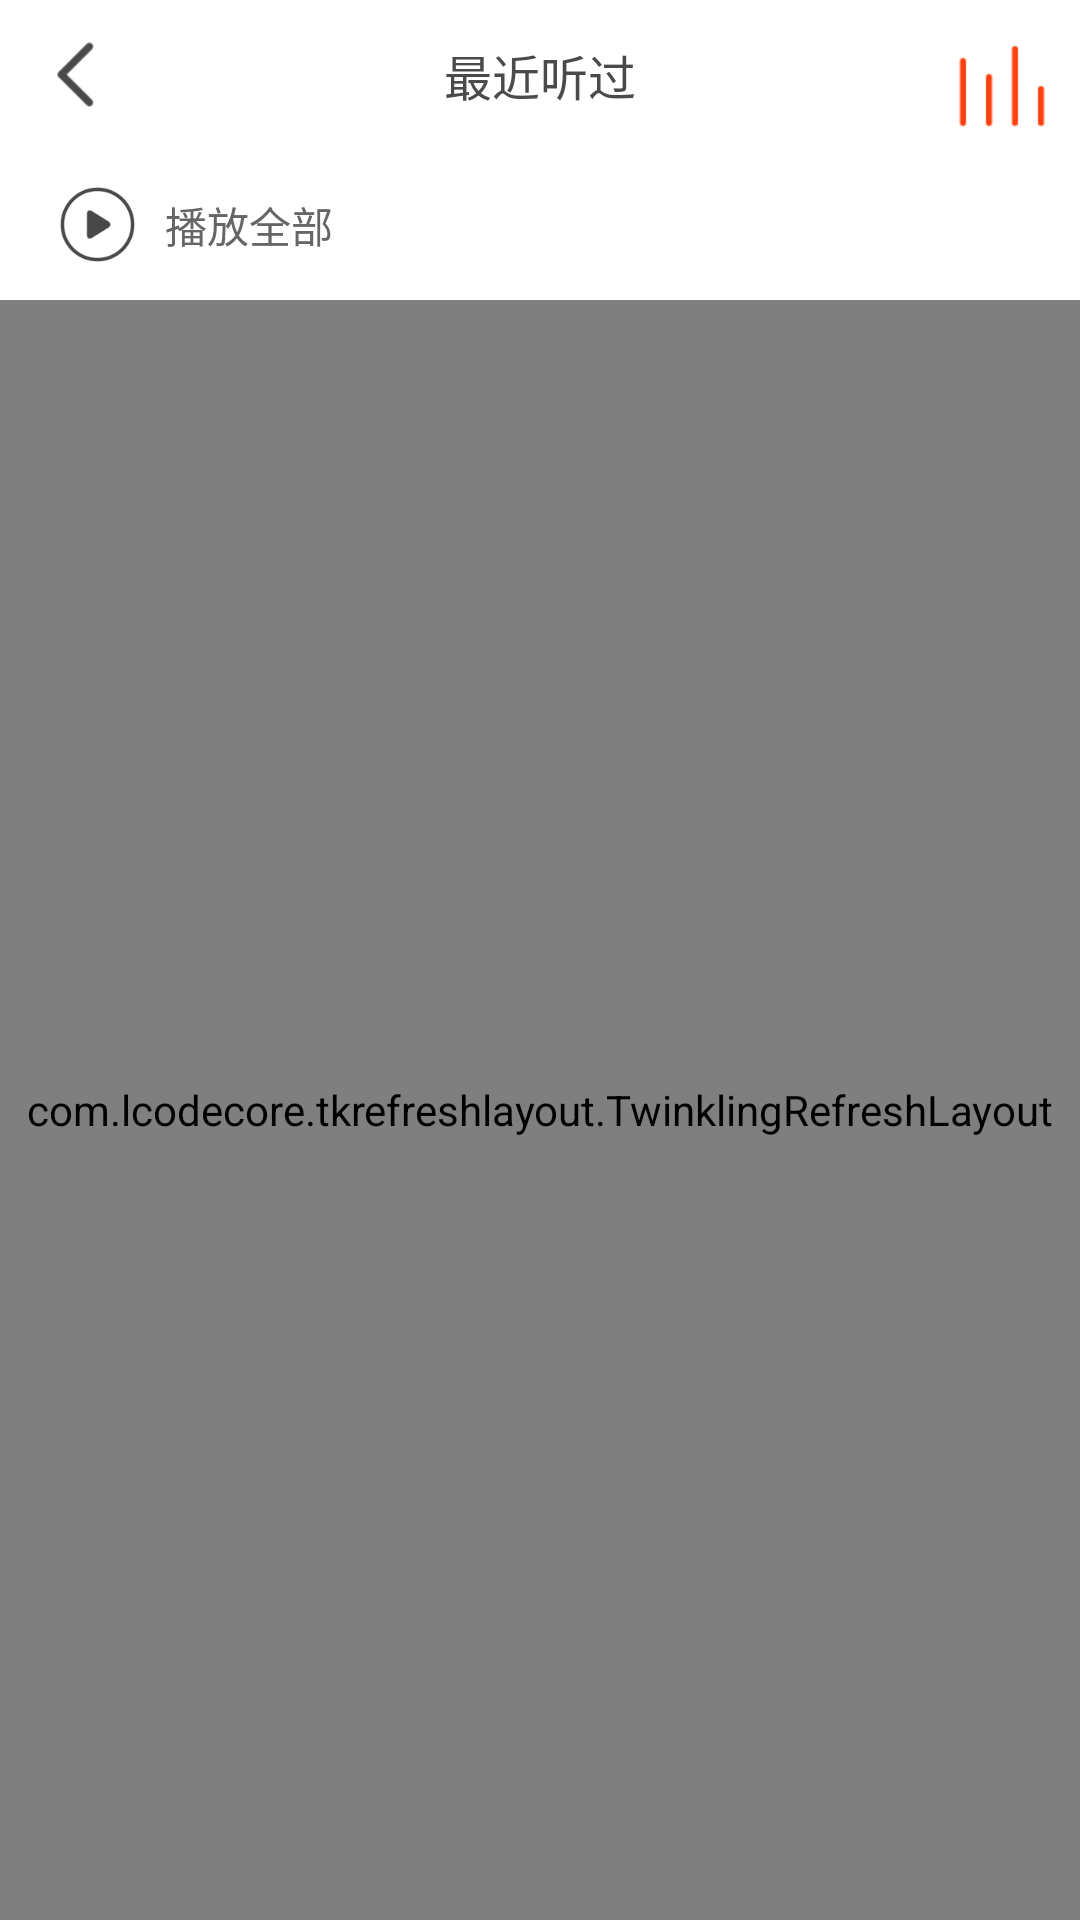

Icon bounding boxes for this 1080px x 1920px phone screenshot, format (x1, y1, x2, y2):
equalizer: (959, 45, 1045, 127)
lisong toleft: (57, 42, 94, 107)
